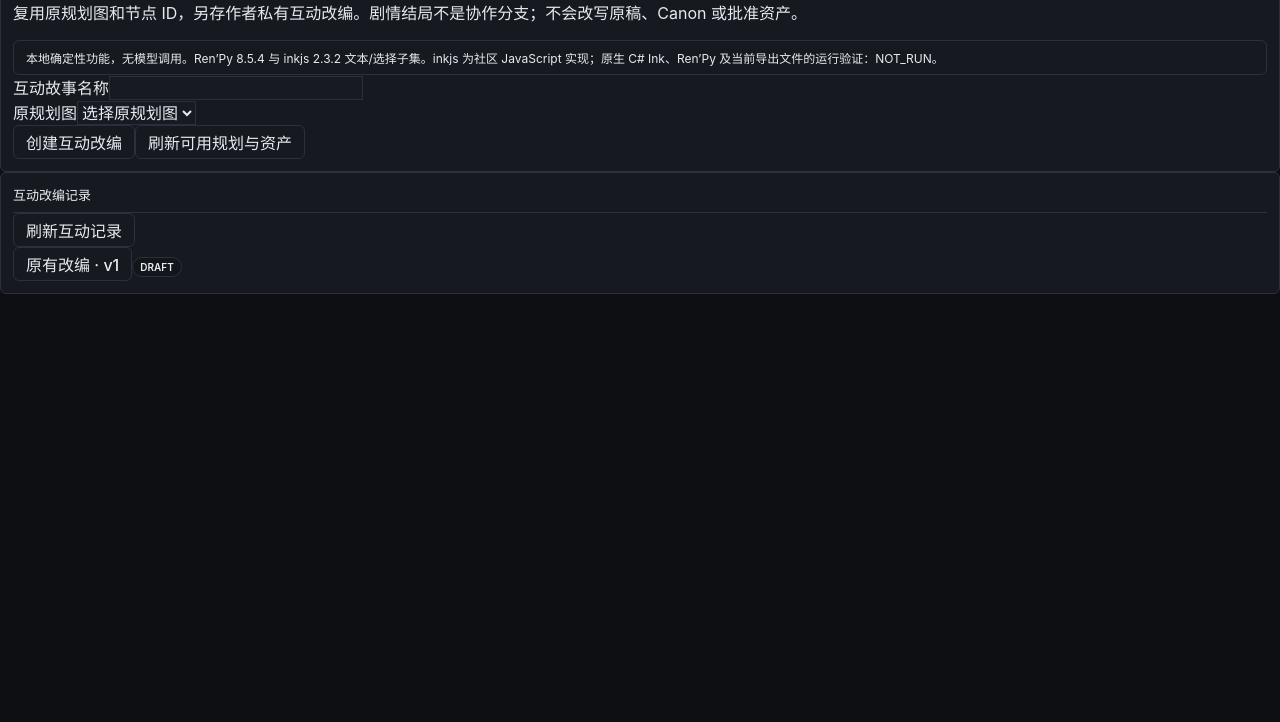
Scenario: reverts appended membership without a dangling editor index and rejects repeated retained add callbacks
This screenshot has width=1280, height=722.
Click the button "原有改编 · v1" at [73, 264], box [13,247,132,281]
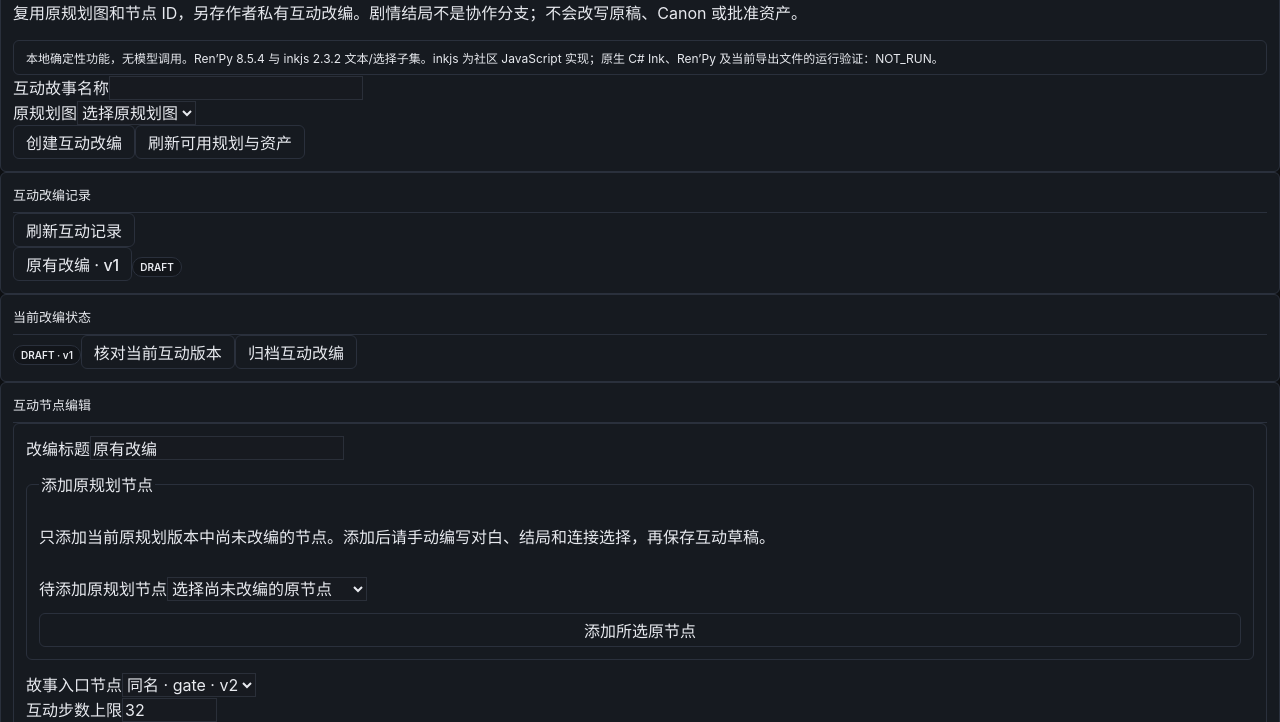
Select "同名 · unused · v4" in the dropdown labelled "待添加原规划节点" at [267, 589], box [167,577,367,601]
(page scrolled)
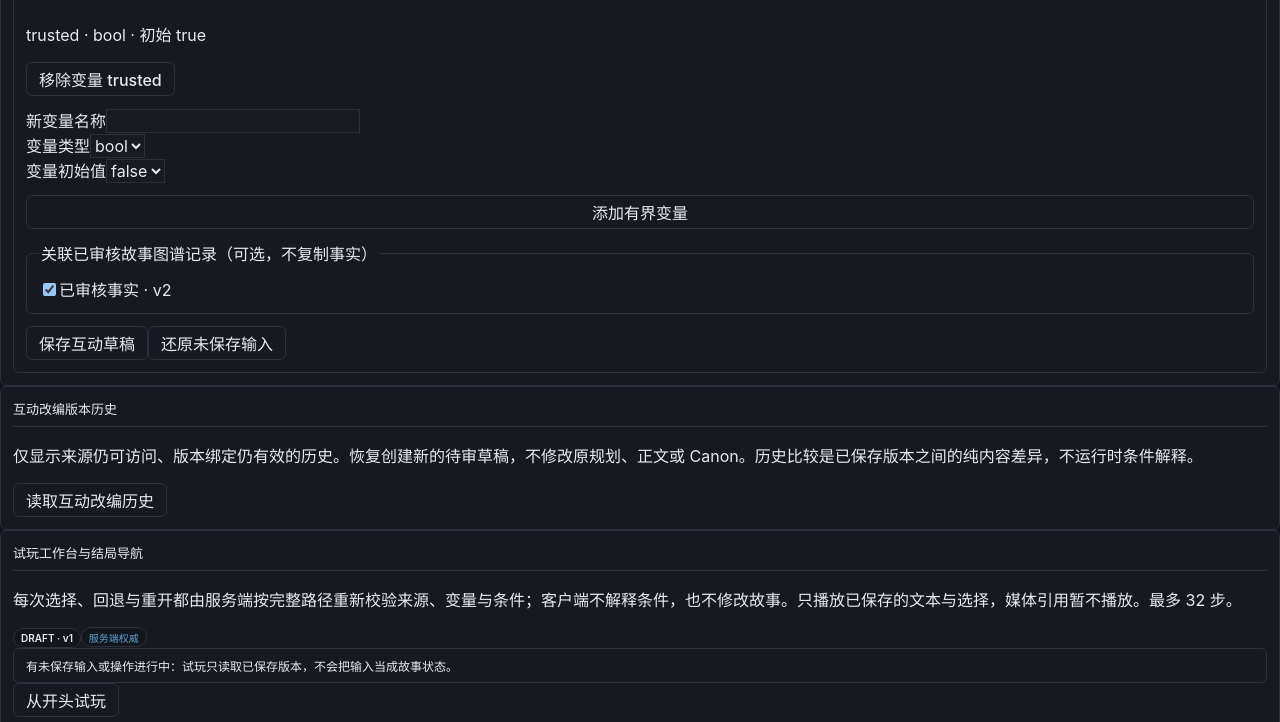
Click the button "还原未保存输入" at [217, 343], box [148,326,286,360]
(page scrolled)
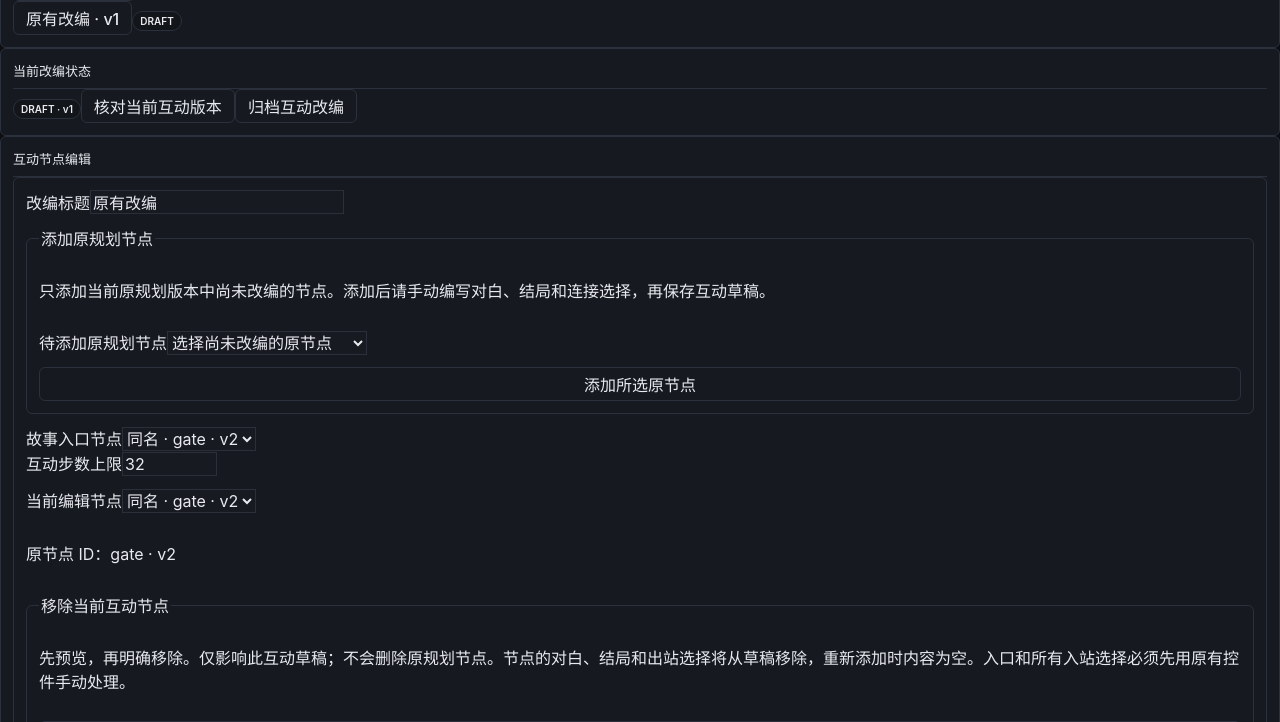
Result: the dropdown labelled "当前编辑节点" shows "同名 · gate · v2" at [122,489,256,513]
